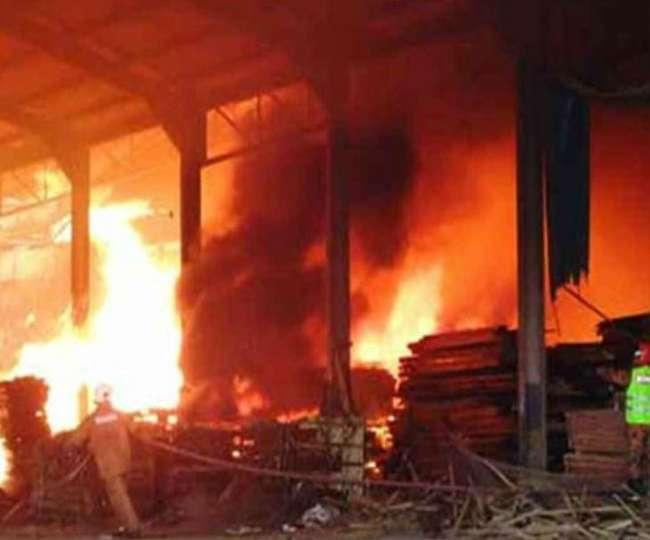Fire: (13, 207, 189, 421), (338, 234, 448, 394)
